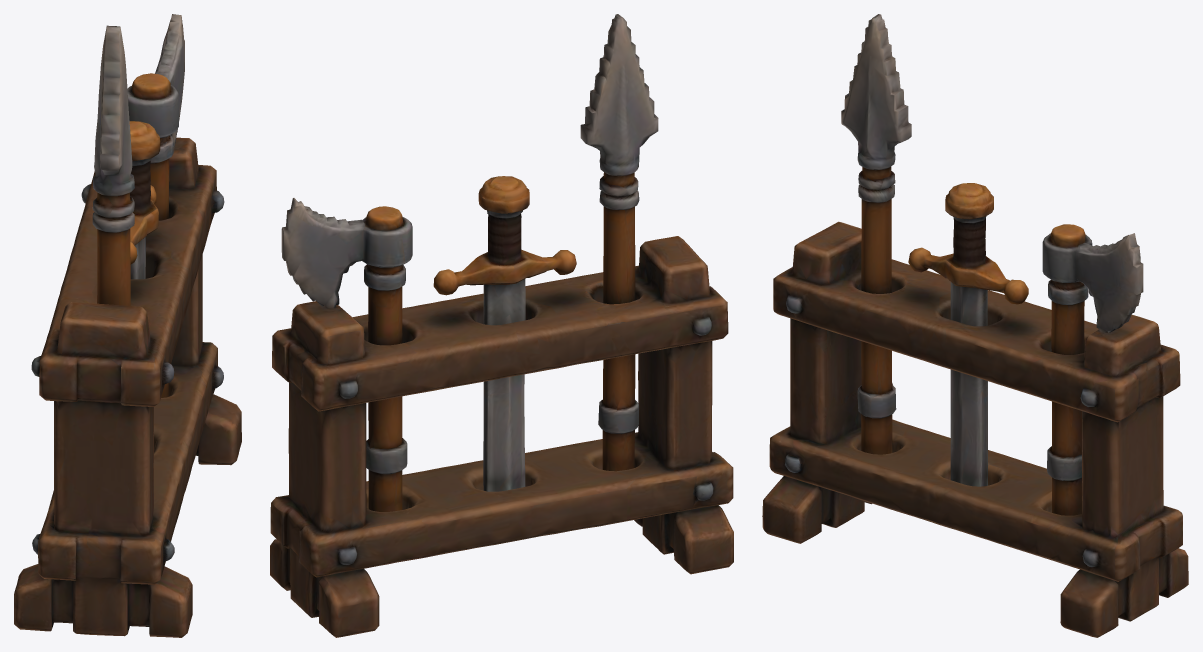
The model's file is weapon-rack.glb.
3 views of the same model, side by side, from view 1: azimuth 30°, elevation 25°; view 2: azimuth 150°, elevation 25°; view 3: azimuth 270°, elevation 25° (orthographic). The views are drawn at different scales.
Parts seen in each view (by area): view 1: tripo_node_179ec00f-bbf7-49c6-a7f4-3d63e11dd896; view 2: tripo_node_179ec00f-bbf7-49c6-a7f4-3d63e11dd896; view 3: tripo_node_179ec00f-bbf7-49c6-a7f4-3d63e11dd896.
Part boxes in pixels (x1,y1,x2,y2): tripo_node_179ec00f-bbf7-49c6-a7f4-3d63e11dd896: (14, 14, 241, 637); tripo_node_179ec00f-bbf7-49c6-a7f4-3d63e11dd896: (270, 14, 733, 637); tripo_node_179ec00f-bbf7-49c6-a7f4-3d63e11dd896: (762, 14, 1188, 637).
Bounding box in the file's own units: 0.6572 × 1 × 0.7507.
Materials: 1 (1 with a texture image).
